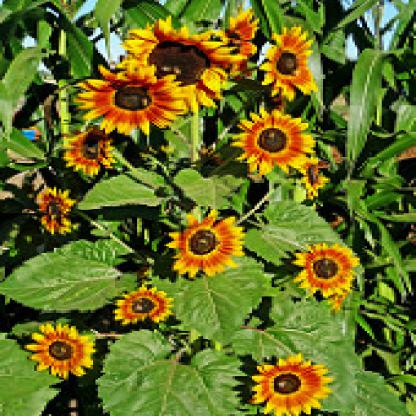SUN FLOWER: (16, 8, 388, 415)
